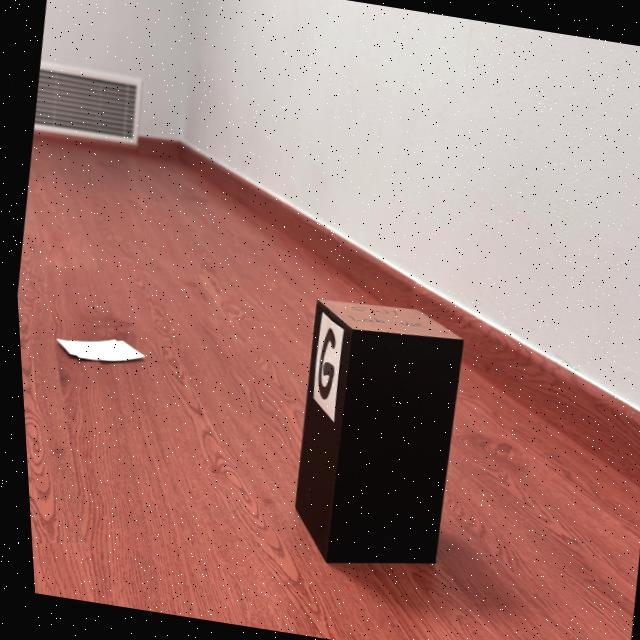G: (313, 328, 331, 400)
